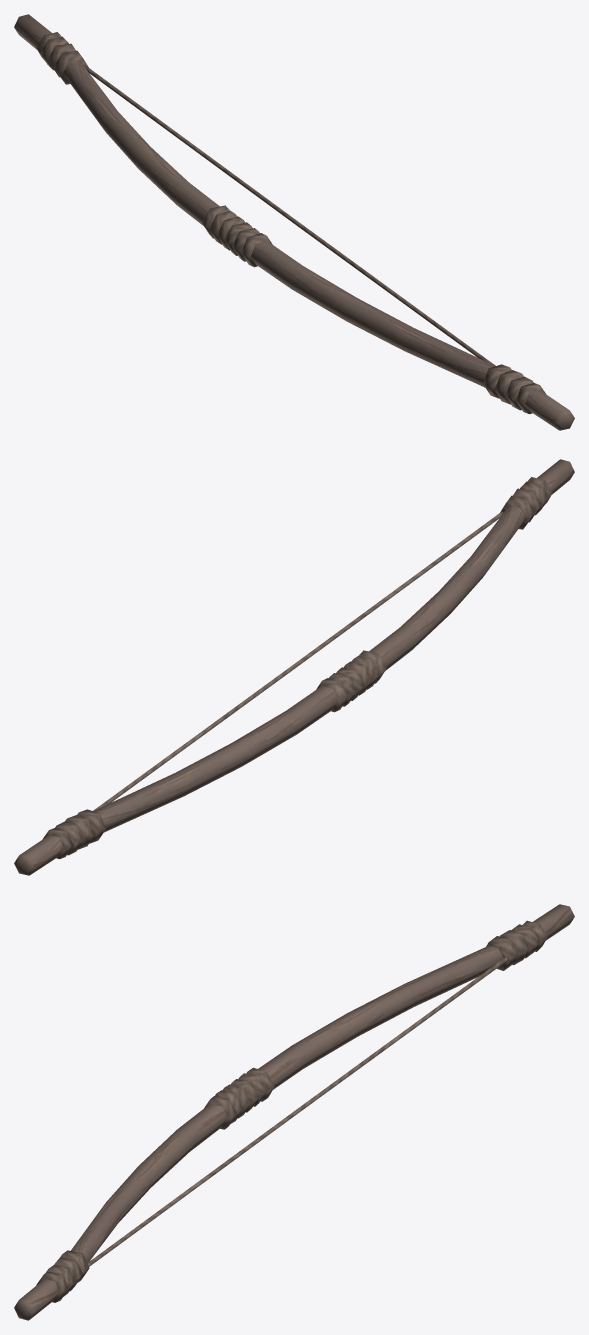
The picture shows the model from 3 angles, top to bottom: view 1: azimuth 30°, elevation 25°; view 2: azimuth 150°, elevation 25°; view 3: azimuth 330°, elevation 25°; orthographic projection.
Parts seen in each view (by area): view 1: submesh_0; view 2: submesh_0; view 3: submesh_0.
Part boxes in pixels (box(x1,y1,x2,y2)): submesh_0: box(14, 14, 574, 430); submesh_0: box(14, 459, 574, 875); submesh_0: box(14, 904, 574, 1320).
Bounding box in the file's own units: 0.1283 × 0.041 × 1.47.
1 material, 1 textured.
